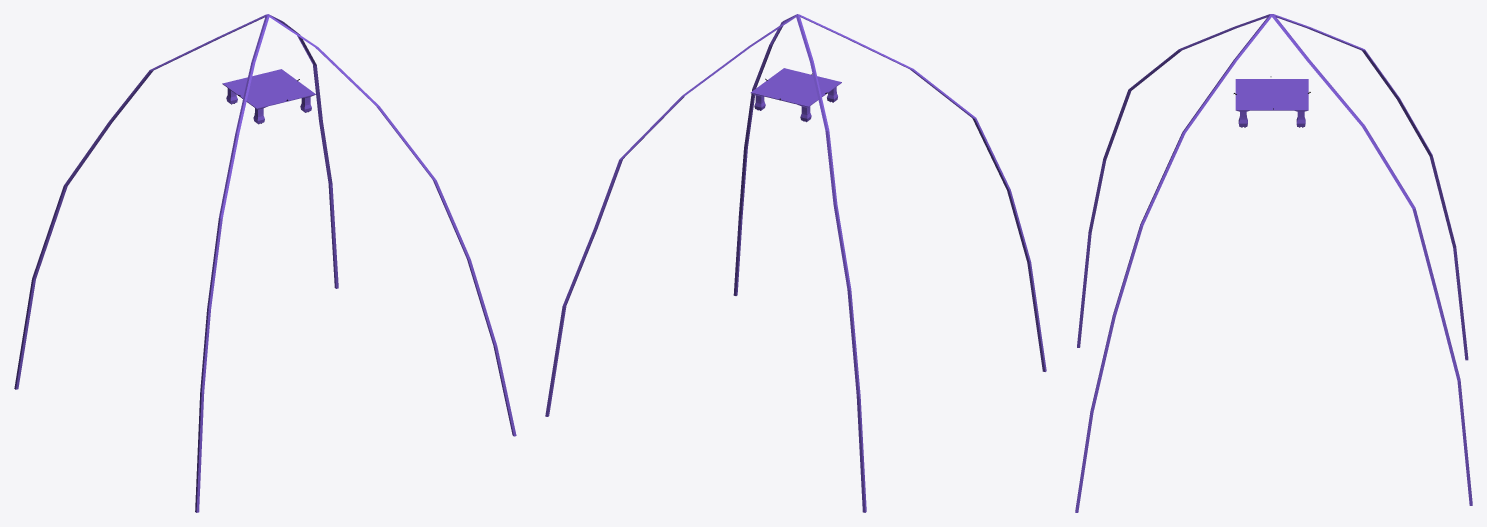
File: ControlEnemyTower.glb
The picture shows the model from 3 angles, left to right: view 1: azimuth 30°, elevation 25°; view 2: azimuth 150°, elevation 25°; view 3: azimuth 270°, elevation 25°; orthographic projection. The views are drawn at different scales.
Parts seen in each view (by area): view 1: controlTower.004, conTrolTowerEntrances, controlTower.001, controlTower.003, controlTower.002; view 2: controlTower.001, conTrolTowerEntrances, controlTower.004, controlTower.002, controlTower.003; view 3: conTrolTowerEntrances, controlTower.003, controlTower.002, controlTower.001, controlTower.004.
Part boxes in pixels (x1,y1,x2,y2): controlTower.004: (195,15,269,512); conTrolTowerEntrances: (222,69,315,108); controlTower.001: (14,14,269,389); controlTower.003: (267,15,516,436); controlTower.002: (267,14,338,288); controlTower.001: (796,14,866,512); conTrolTowerEntrances: (750,68,841,107); controlTower.004: (798,15,1046,371); controlTower.002: (545,15,798,416); controlTower.003: (733,14,799,295); conTrolTowerEntrances: (1235,79,1308,110); controlTower.003: (1075,14,1271,512); controlTower.002: (1270,14,1472,505); controlTower.001: (1271,14,1468,360); controlTower.004: (1077,14,1269,347).
Size of the model in its own units: 3661 by 4306 by 3624.
